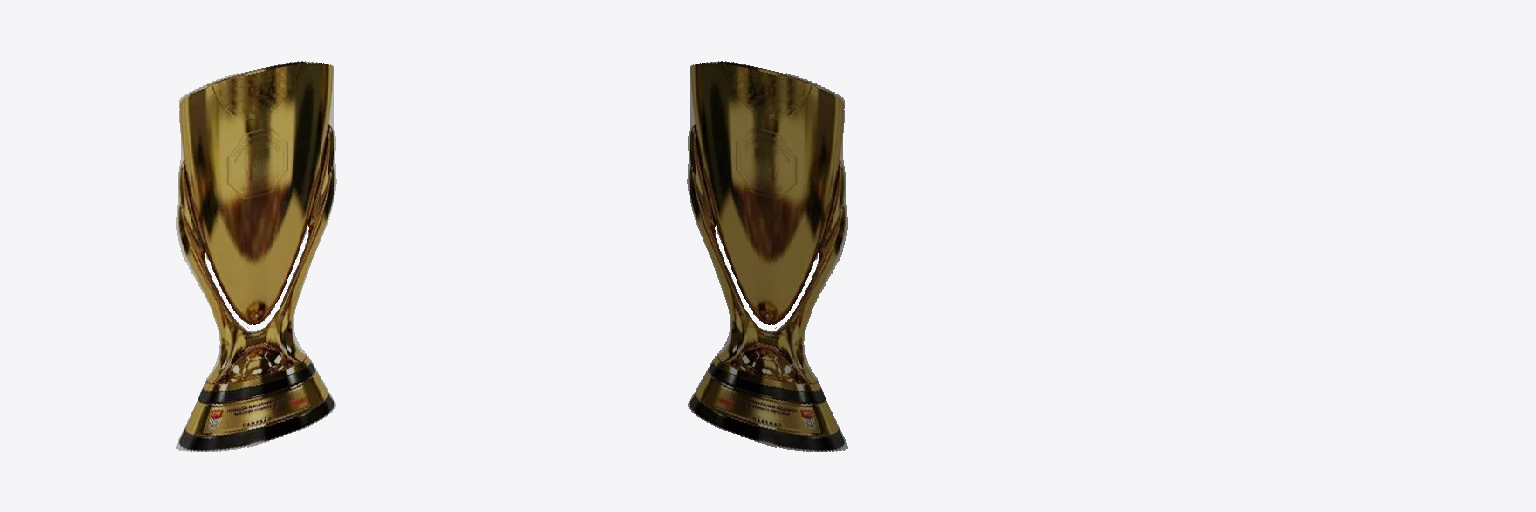
The picture shows the model from 3 angles: view 1: azimuth 30°, elevation 25°; view 2: azimuth 150°, elevation 25°; view 3: azimuth 270°, elevation 25°; orthographic projection.
Visible parts, largest first — view 1: Mesh1 Model; view 2: Mesh1 Model; view 3: none.
Boxes of the visible parts, <box> form: Mesh1 Model: <box>176,61,336,451</box>; Mesh1 Model: <box>687,61,847,451</box>.
Bounding box in the file's own units: 172 × 333 × 0.
1 materials, 1 textured.